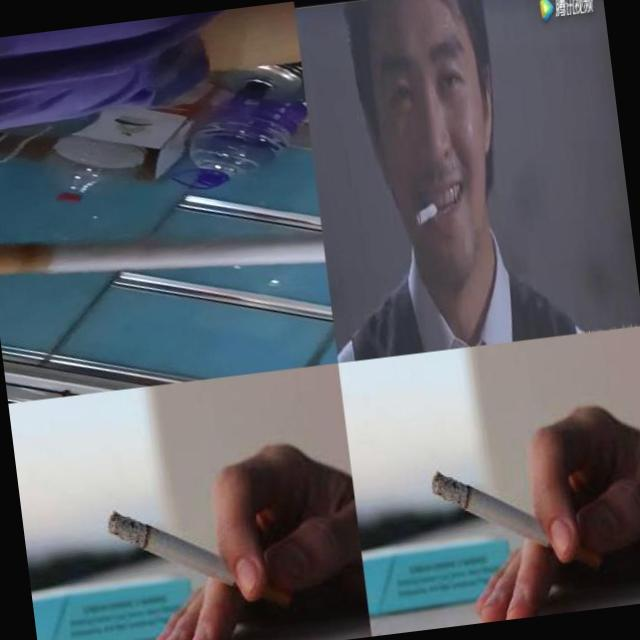cigarette: (0, 204, 325, 307), (106, 490, 292, 627), (430, 452, 602, 588), (408, 197, 444, 232)
